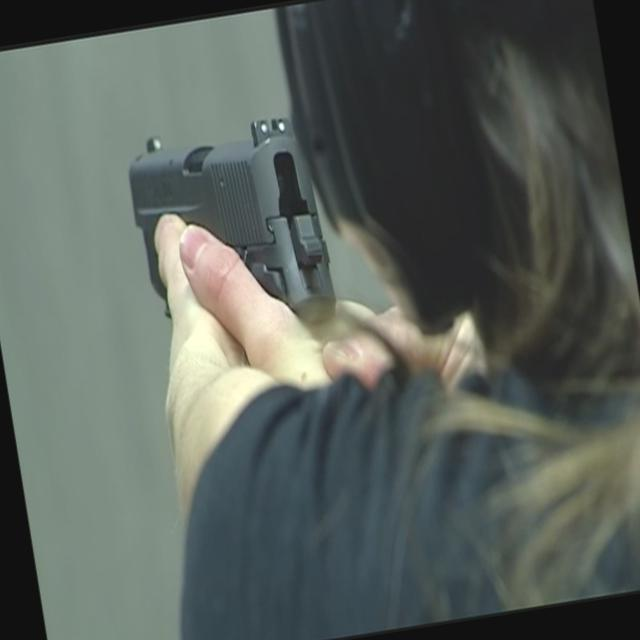handgun: (113, 109, 350, 351)
